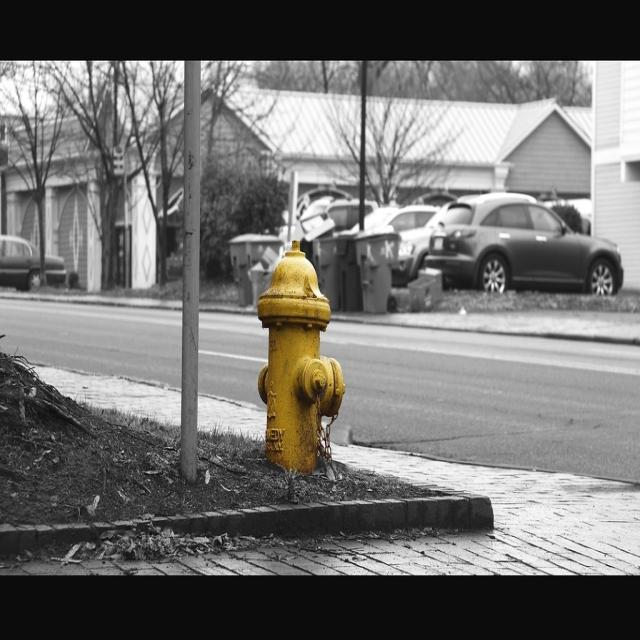fire_hydrant: (257, 238, 338, 482)
